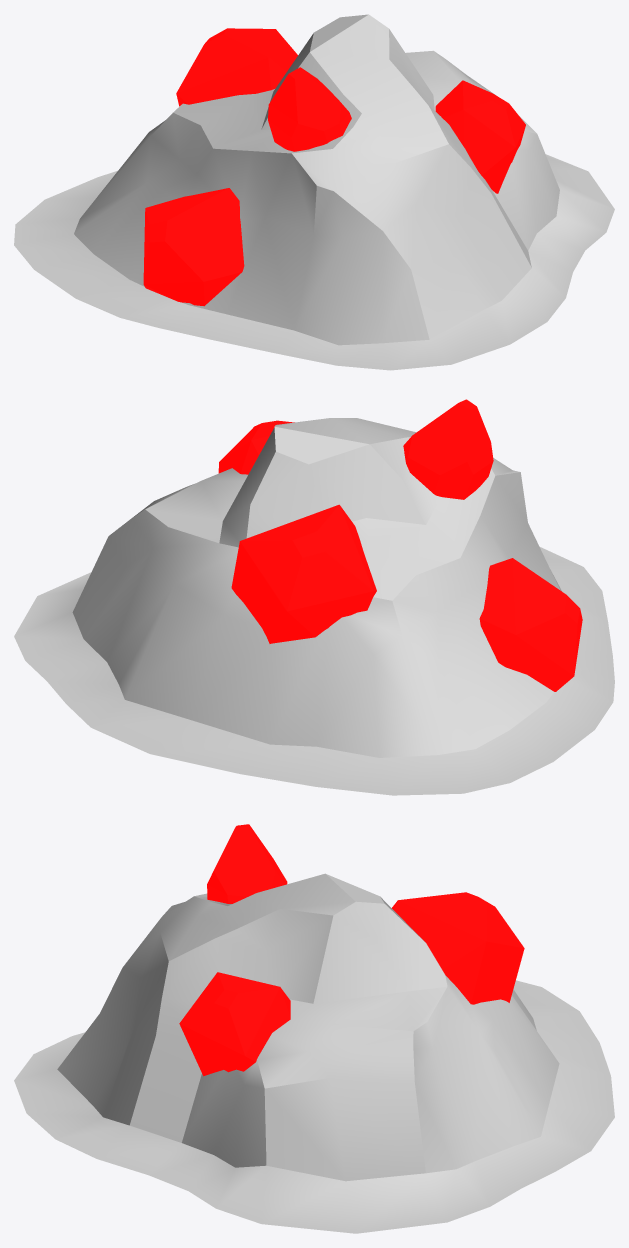
Rendered from SM_CrystalRock.fbx.
3 renders of one model, top to bottom at view 1: azimuth 30°, elevation 25°; view 2: azimuth 150°, elevation 25°; view 3: azimuth 270°, elevation 25°, orthographic. The views are drawn at different scales.
Parts seen in each view (by area): view 1: CrystalRock_LOD0; view 2: CrystalRock_LOD0; view 3: CrystalRock_LOD0.
Boxes of the visible parts, <box> form: CrystalRock_LOD0: <box>14,14,614,370</box>; CrystalRock_LOD0: <box>14,399,614,795</box>; CrystalRock_LOD0: <box>14,824,614,1233</box>.
Size of what is drawn, in the model's own units: 9.89 by 4.11 by 9.54.
